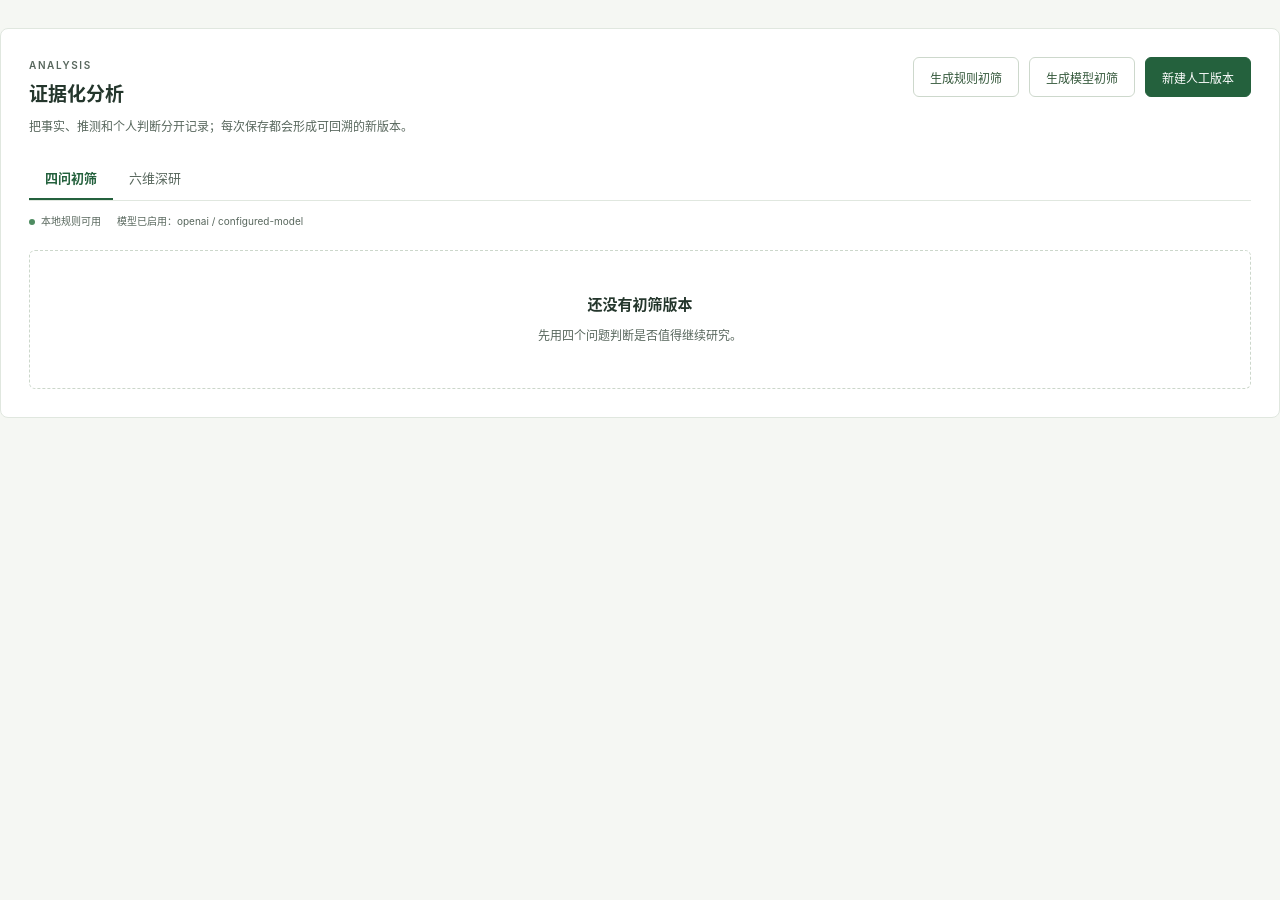
Test: AnalysisPanel › runs an enabled model with public evidence only and polls its frozen version
Expected: the heading "还没有初筛版本" is shown, [588,295,692,314]
Click the button "生成模型初筛" at (1082,77), box [1029,57,1135,97]
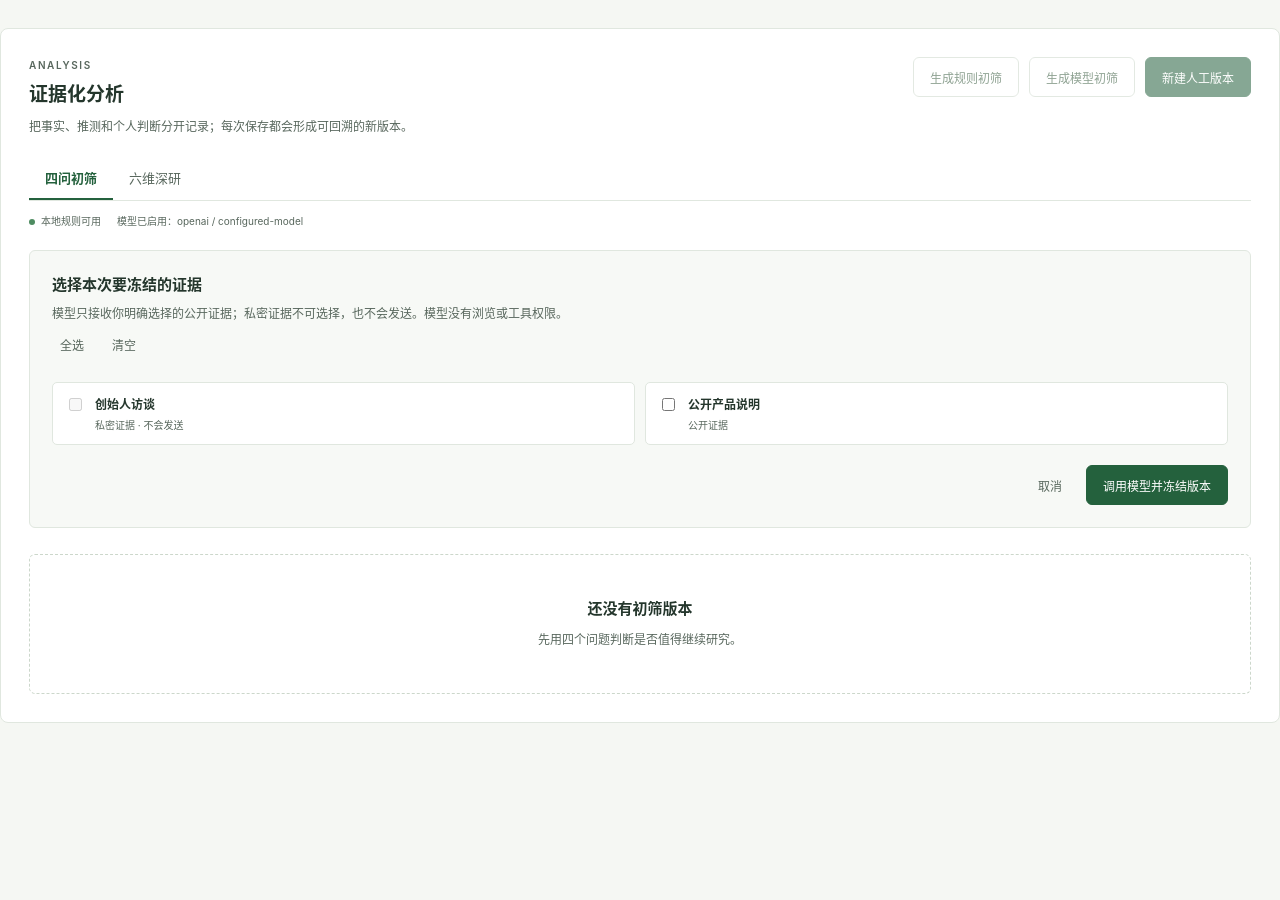
Now the checkbox labelled "创始人访谈 私密证据 · 不会发送" is disabled, box [69,398,82,411]
Click the checkbox labelled "公开产品说明 公开证据" at (668,405), box [662,398,675,411]
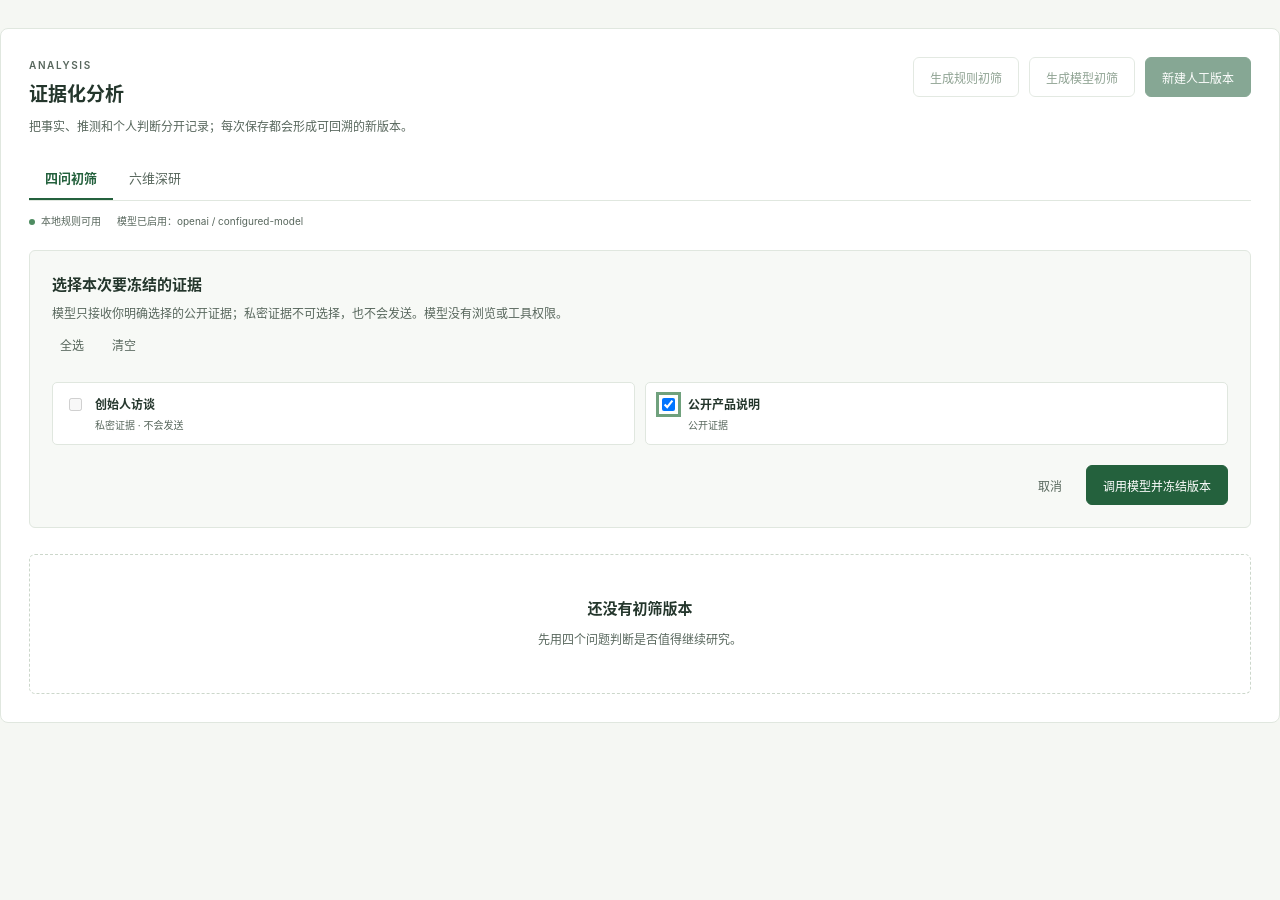
Click the button "调用模型并冻结版本" at (1157,485), box [1086,465,1228,505]
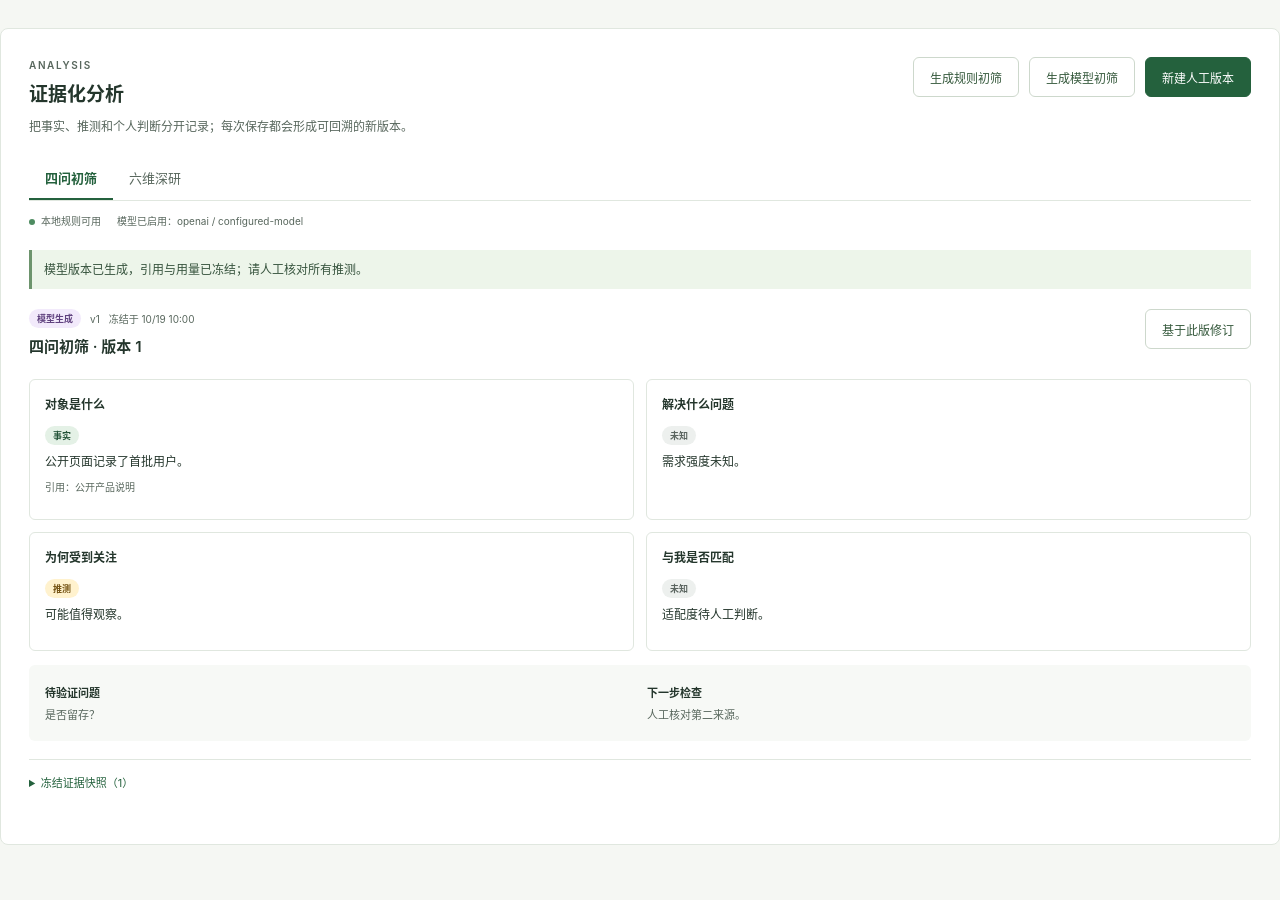
Now the text "公开页面记录了首批用户。" is shown, box [45,454,189,469]
Now the text "模型生成" is shown, box [29,309,81,328]
